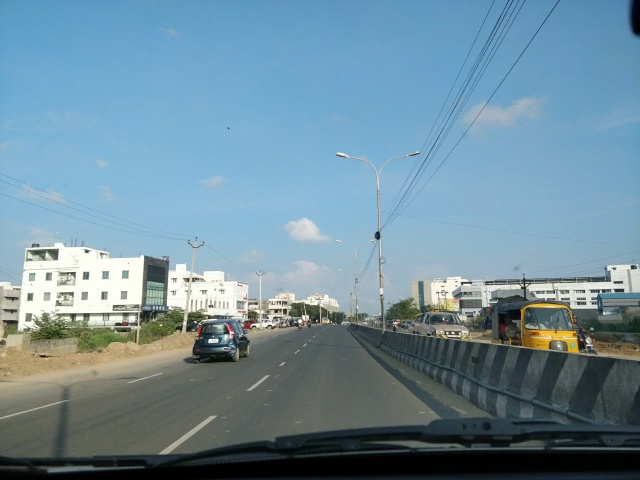auto: (487, 295, 583, 371)
car: (195, 313, 250, 369), (408, 307, 471, 349), (253, 318, 277, 331), (285, 317, 299, 328)
motorbike: (389, 320, 400, 332), (298, 318, 303, 332), (308, 318, 312, 329)
